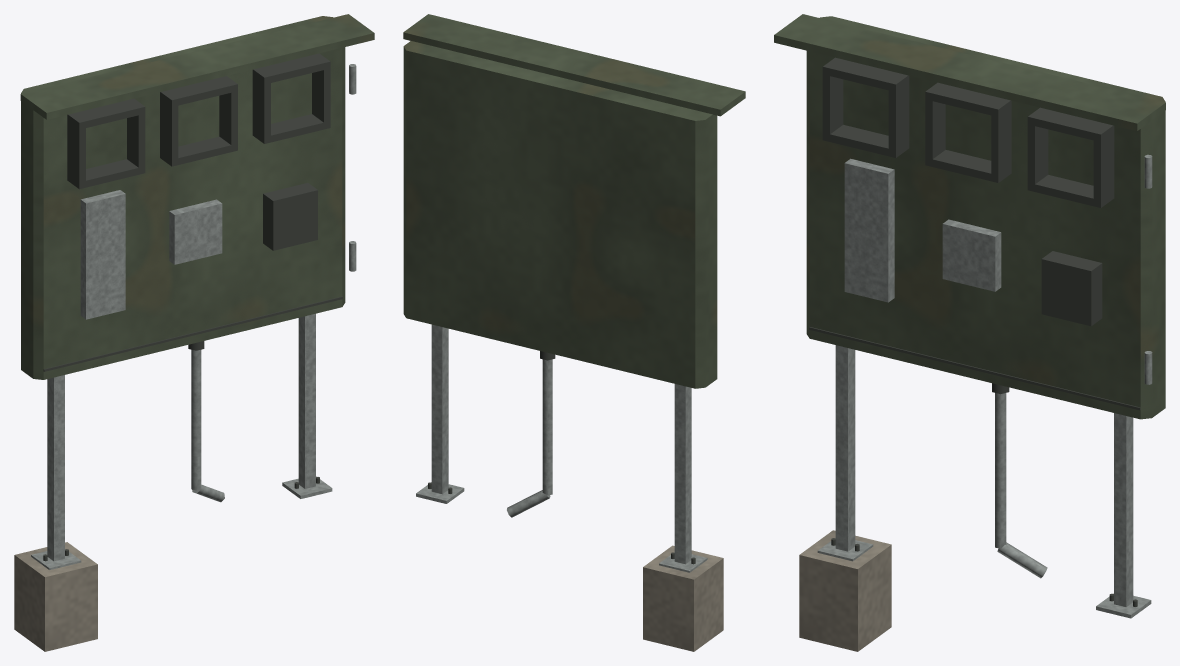
Rendered from SM_SubstationField_TestFixture_LOD2.fbx.
3 renders of one model, left to right at view 1: azimuth 30°, elevation 25°; view 2: azimuth 150°, elevation 25°; view 3: azimuth 330°, elevation 25°, orthographic. The views are drawn at different scales.
Visible parts, largest first — view 1: SM_SubstationField_TestFixture_LOD2; view 2: SM_SubstationField_TestFixture_LOD2; view 3: SM_SubstationField_TestFixture_LOD2.
Part boxes in pixels (bbox=[...]): SM_SubstationField_TestFixture_LOD2: bbox=[14, 14, 374, 651]; SM_SubstationField_TestFixture_LOD2: bbox=[403, 14, 745, 651]; SM_SubstationField_TestFixture_LOD2: bbox=[774, 14, 1165, 651].
Bounding box in the file's own units: 1.24 × 0.28 × 1.99.
